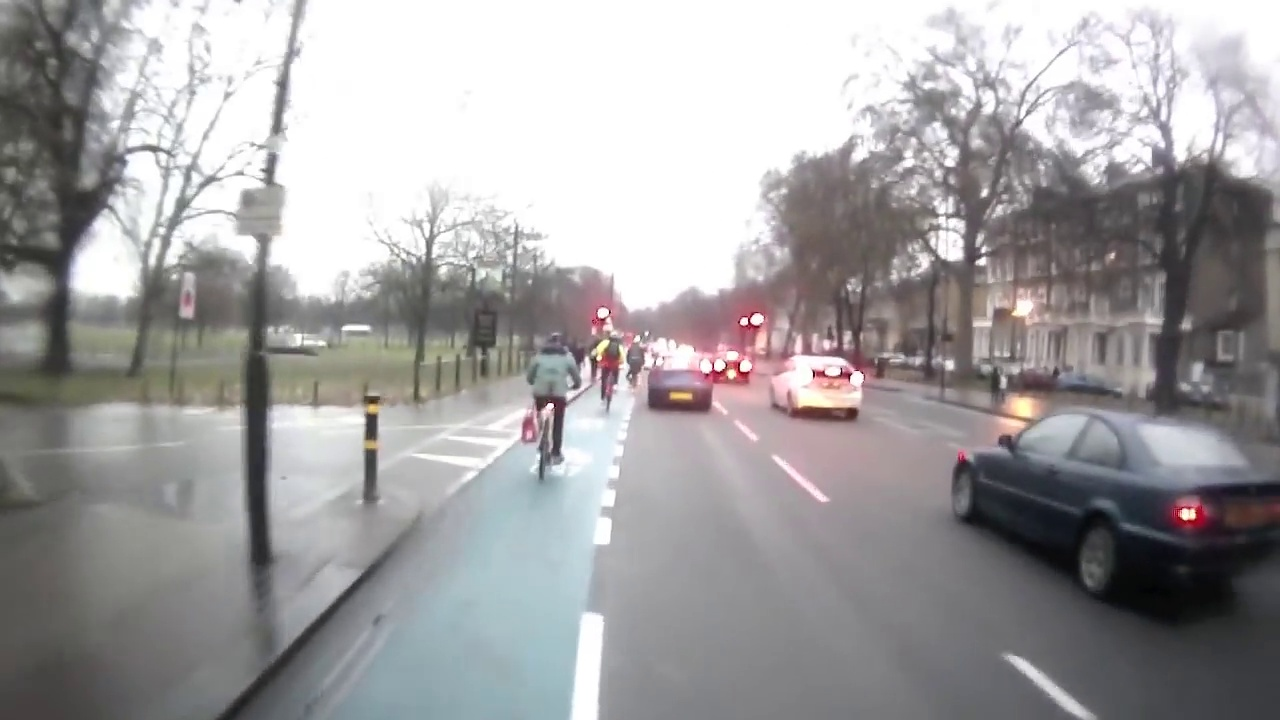cyclist_back: (524, 329, 572, 491), (596, 330, 626, 415), (623, 337, 645, 391)
